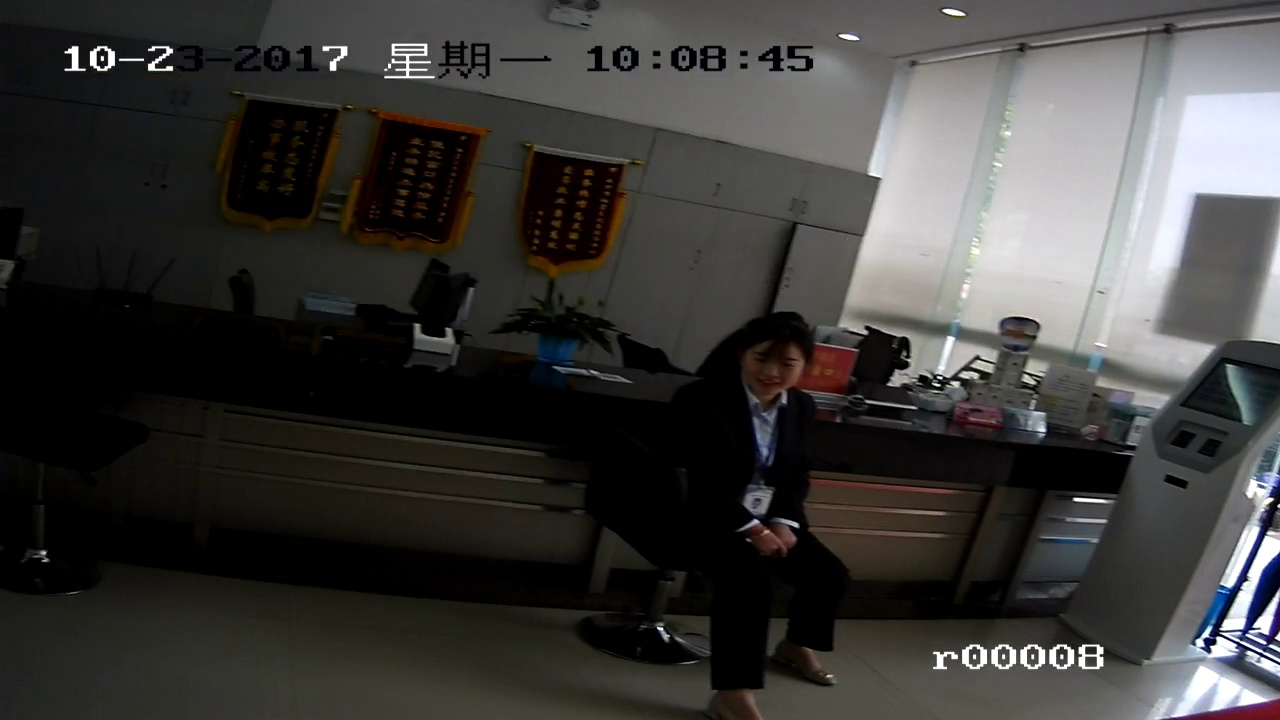billboard: (361, 115, 456, 253), (525, 136, 617, 278), (243, 97, 322, 220)
monitor: (1203, 351, 1267, 422)
person: (700, 311, 849, 700)
